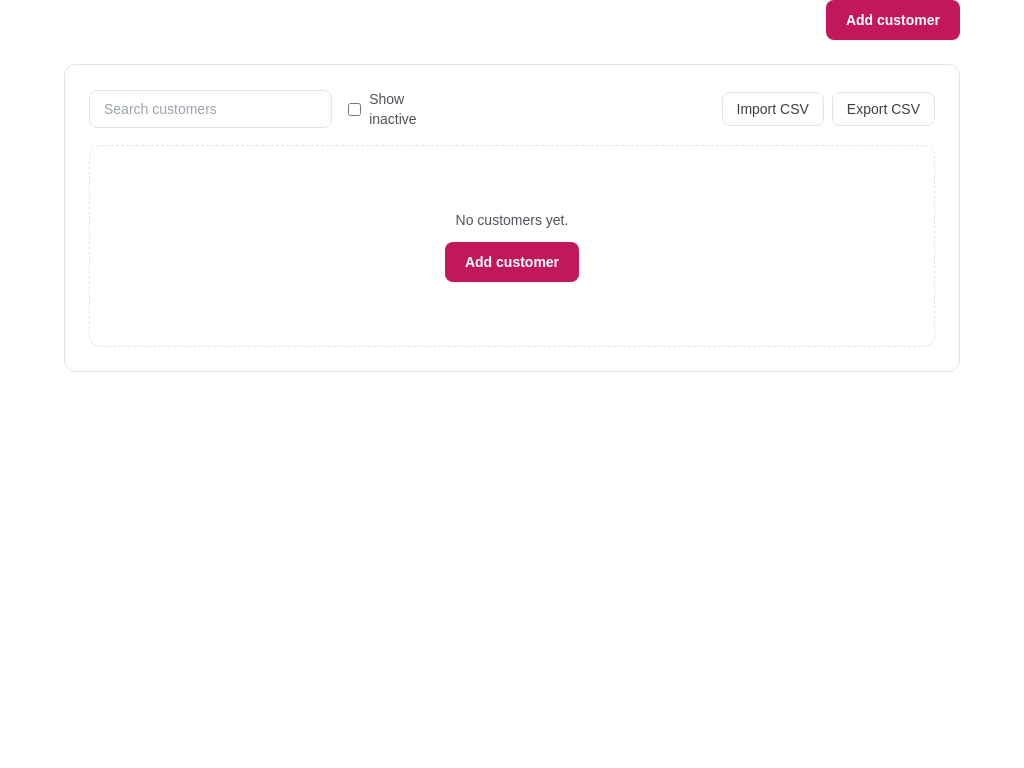
Customers › creates a customer through the modal and refreshes the list
The width and height of the screenshot is (1024, 768).
Expected: the text "No customers yet." is shown, [456, 210, 568, 230]
Click the 1st button "Add customer". click: (893, 20)
box: [826, 0, 960, 40]
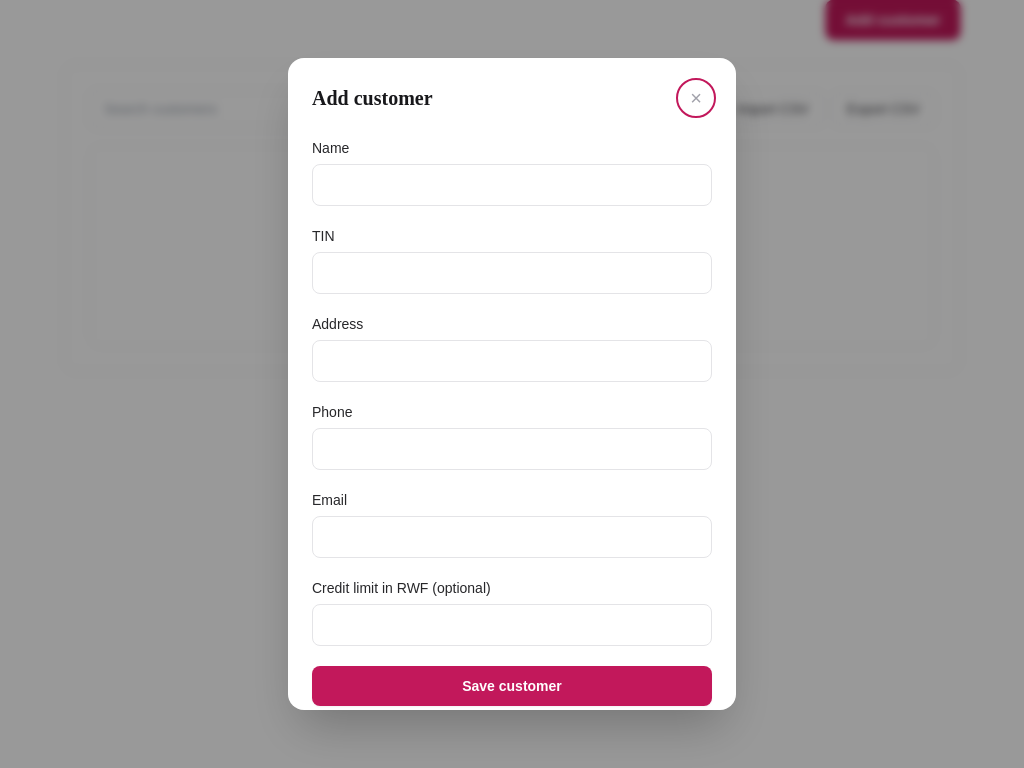
Type "New Co" into the field labelled "Name". click: (512, 185)
box: [312, 164, 712, 206]
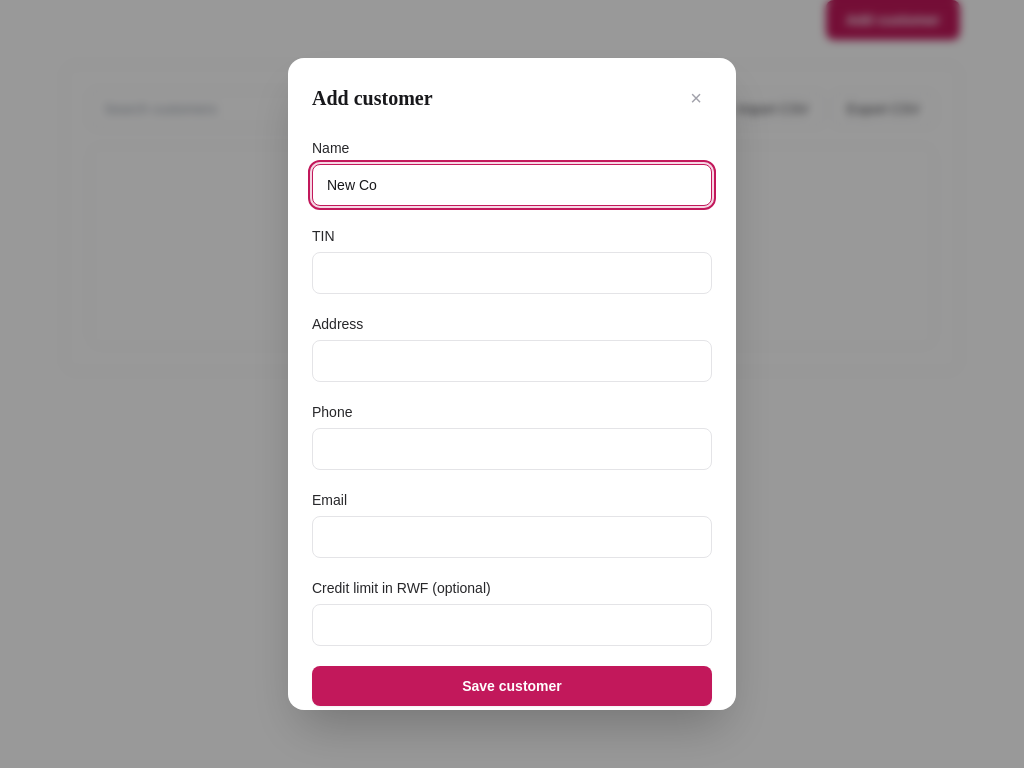
Click the button "Save customer". click: (512, 686)
box: [312, 666, 712, 706]
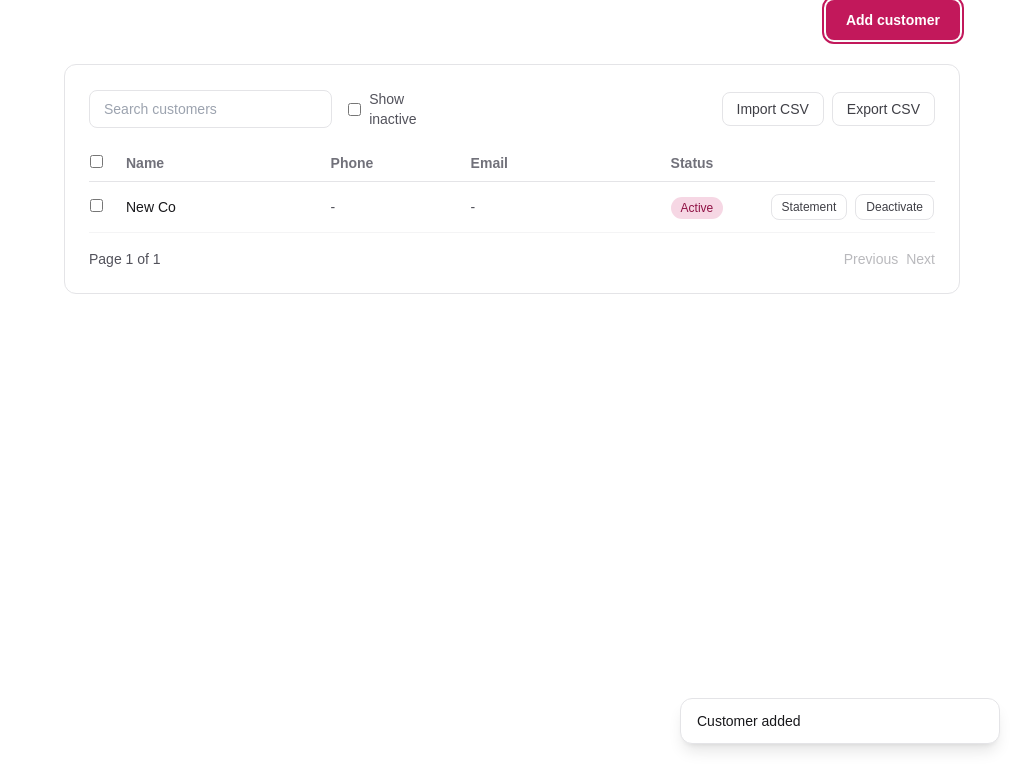
Result: the button "New Co" is shown at [126, 197, 176, 217]
Result: the text "Customer added" is shown at [697, 713, 800, 729]
